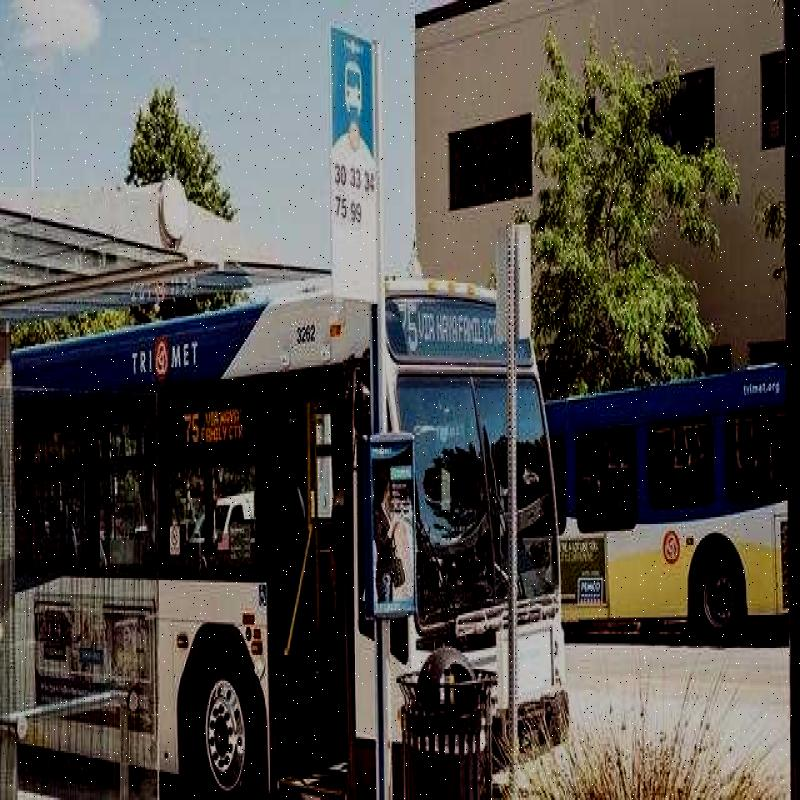bus: (5, 268, 590, 800)
